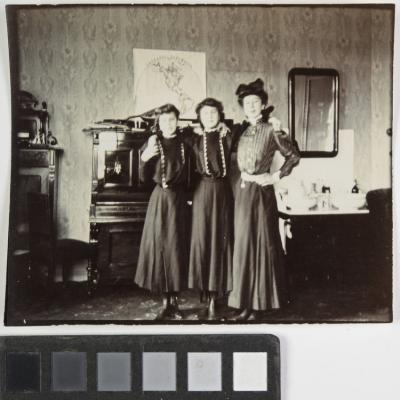photos_negatives: (4, 6, 394, 327)
